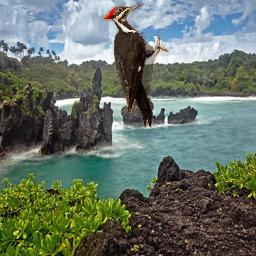Woodpecker: (102, 3, 169, 129)
